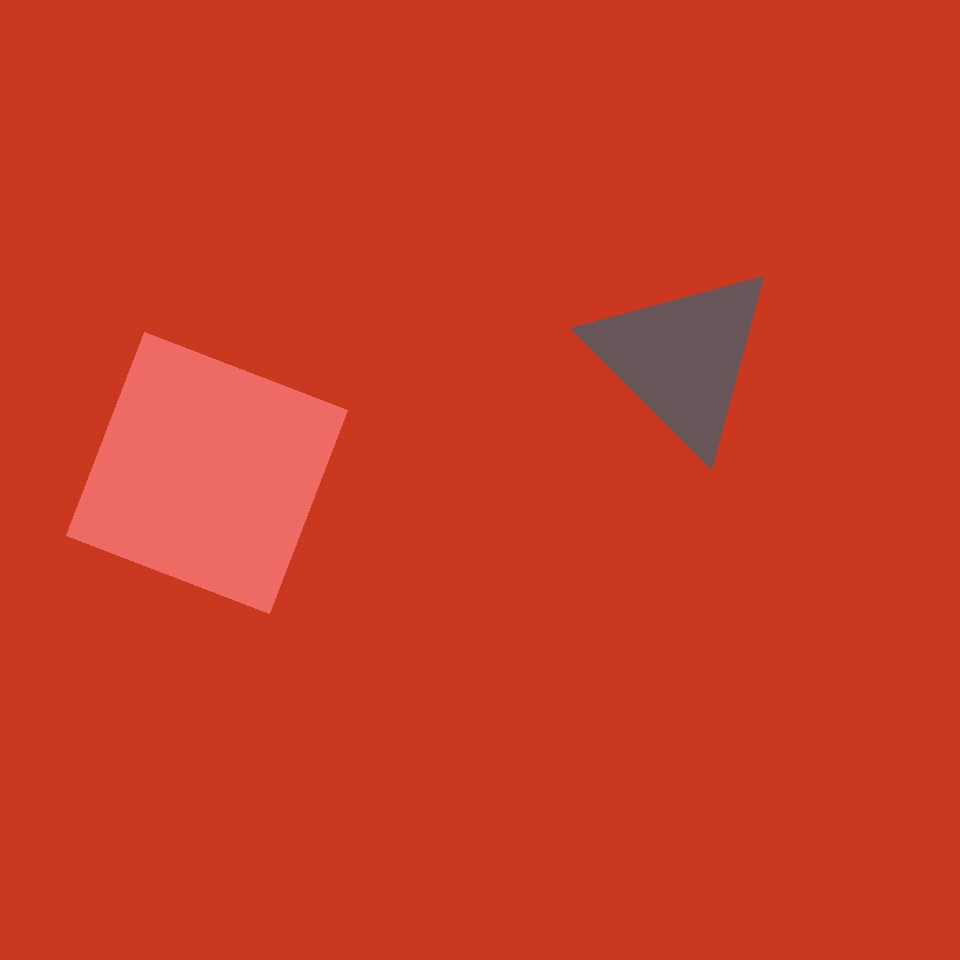circle: (586, 262, 779, 454), (234, 720, 384, 866)
square: (101, 475, 456, 830), (66, 332, 348, 614), (565, 345, 825, 604), (469, 224, 717, 471)
triangle: (600, 588, 882, 871)
